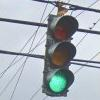traffic lights: (41, 13, 78, 100)
